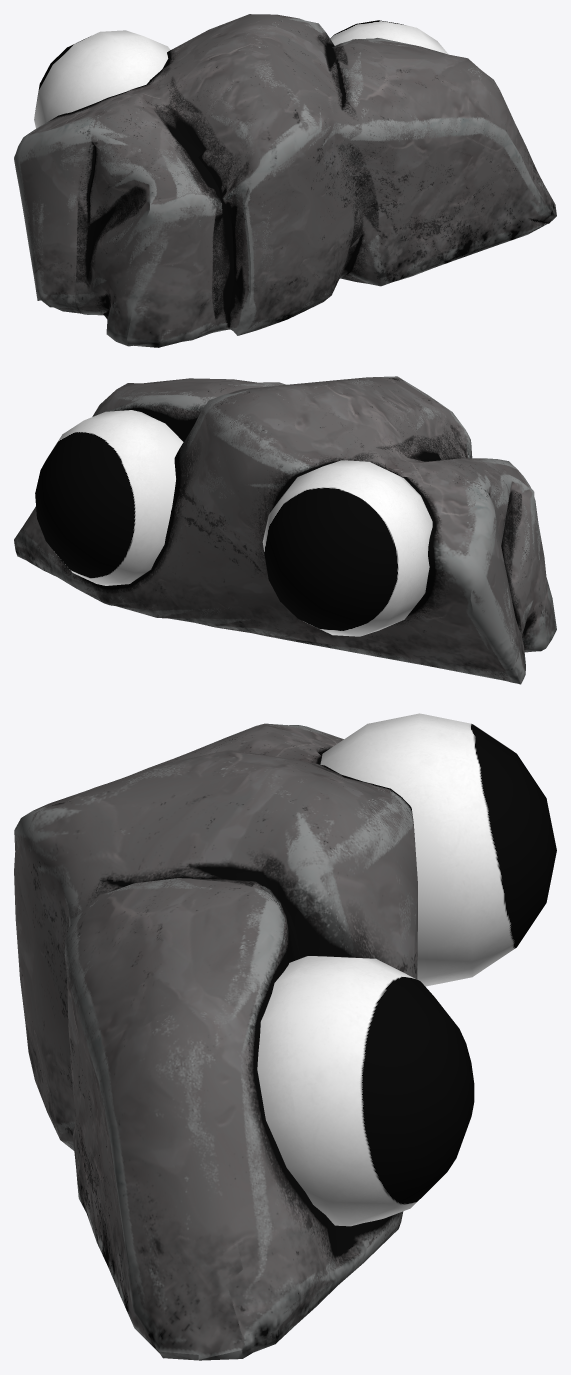
The model's file is petPedra.glb.
3 renders of one model, top to bottom at view 1: azimuth 30°, elevation 25°; view 2: azimuth 150°, elevation 25°; view 3: azimuth 270°, elevation 25°, orthographic. The views are drawn at different scales.
Parts seen in each view (by area): view 1: rock; view 2: rock; view 3: rock.
Part boxes in pixels (x1=…): rock: x1=14, y1=14, x2=556, y2=347; rock: x1=14, y1=376, x2=556, y2=684; rock: x1=14, y1=713, x2=556, y2=1360.
Size of what is drawn, in the model's own units: 1.83 by 0.8352 by 1.07.
1 material, 1 textured.
